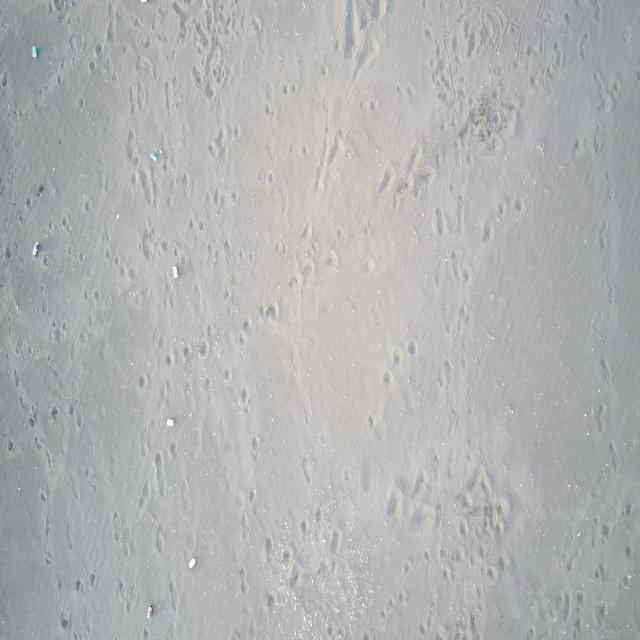tin-and-aluminum-cans: (147, 602, 154, 620), (171, 265, 180, 279), (32, 240, 39, 256), (188, 557, 196, 570), (32, 44, 38, 61), (166, 418, 175, 428), (150, 152, 158, 162), (139, 0, 149, 5)
